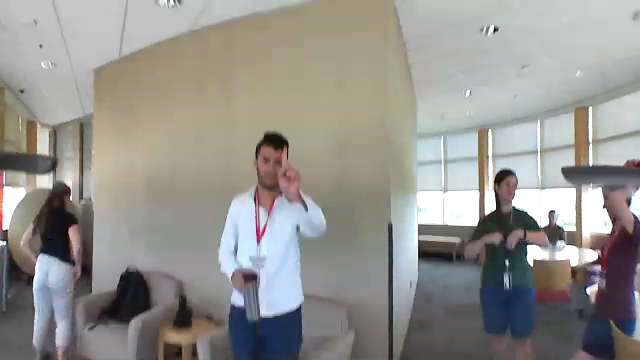up: (276, 143, 305, 195)
